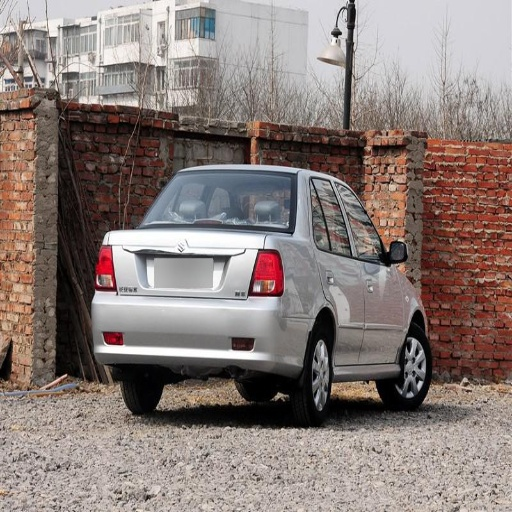back_bumper: (89, 292, 311, 374)
back_right_door: (301, 175, 361, 366)
tailgate: (115, 219, 278, 299)
